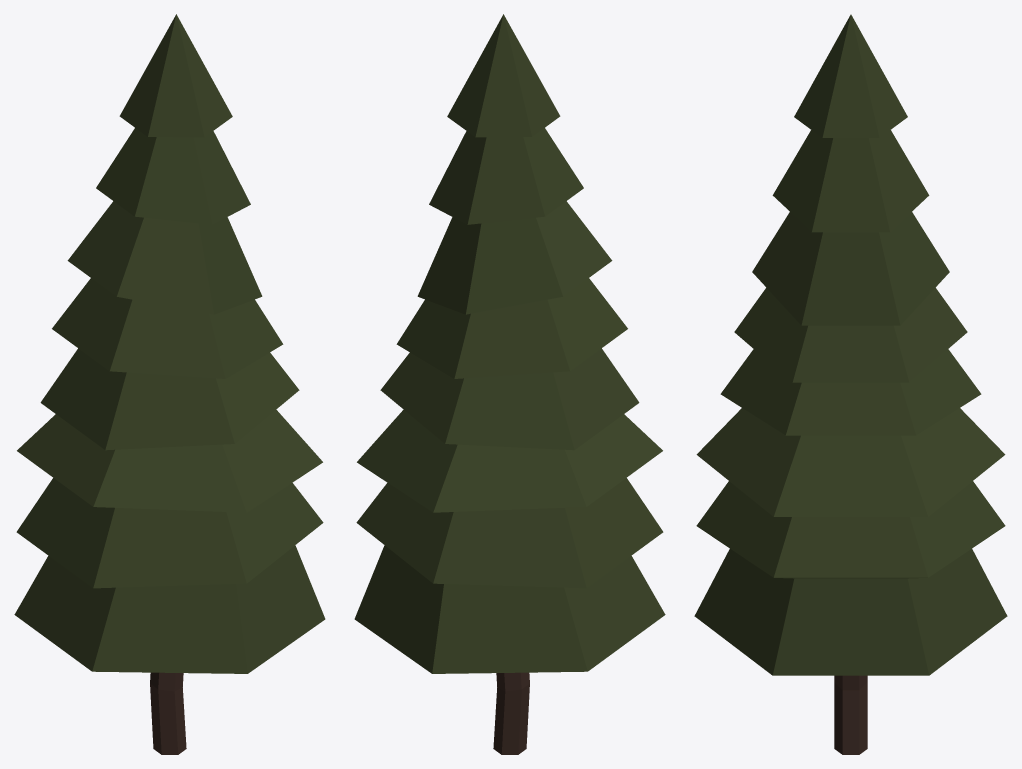
Rendered from Tree Type1 05.glb.
3 views of the same model, side by side, from view 1: azimuth 30°, elevation 25°; view 2: azimuth 150°, elevation 25°; view 3: azimuth 270°, elevation 25° (orthographic).
Parts seen in each view (by area): view 1: Tree_Type1_05_mesh; view 2: Tree_Type1_05_mesh; view 3: Tree_Type1_05_mesh.
Boxes of the visible parts, box(x1,y1,x2,y2) form: Tree_Type1_05_mesh: box(14, 14, 325, 754); Tree_Type1_05_mesh: box(354, 14, 665, 754); Tree_Type1_05_mesh: box(694, 14, 1007, 754).
Size of the model in its own units: 2.2 by 6.61 by 2.54.
1 material, 1 textured.
